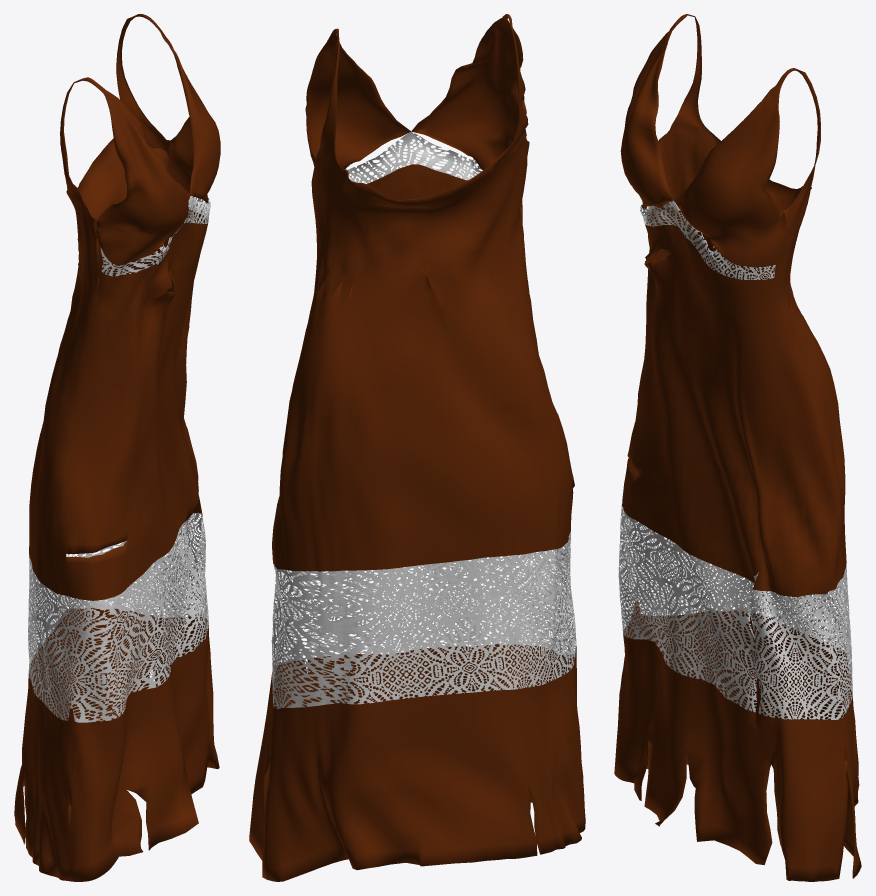
File: dress_aged.fbx
3 views of the same model, side by side, from view 1: azimuth 30°, elevation 25°; view 2: azimuth 150°, elevation 25°; view 3: azimuth 270°, elevation 25° (orthographic). The views are drawn at different scales.
Parts seen in each view (by area): view 1: dress_final_lowres_aged.003; view 2: dress_final_lowres_aged.003; view 3: dress_final_lowres_aged.003.
Part boxes in pixels (box(x1,y1,x2,y2)): dress_final_lowres_aged.003: box(14, 14, 220, 881); dress_final_lowres_aged.003: box(249, 14, 585, 881); dress_final_lowres_aged.003: box(614, 14, 861, 881).
Bounding box in the file's own units: 36.54 × 114 × 32.21.
2 materials, 1 textured.
